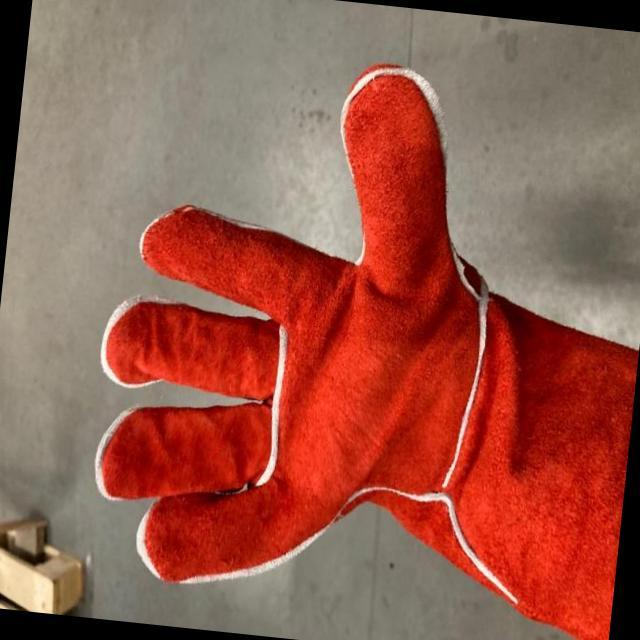glove: (84, 63, 599, 621)
